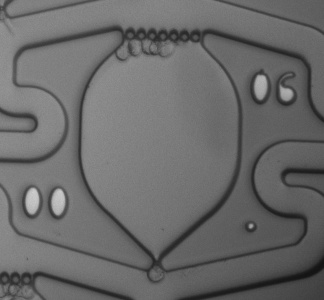AptNum: (244, 63, 304, 111)
Marker: (240, 216, 262, 237)
StNum: (14, 176, 78, 227)
Trap: (128, 257, 185, 300)
